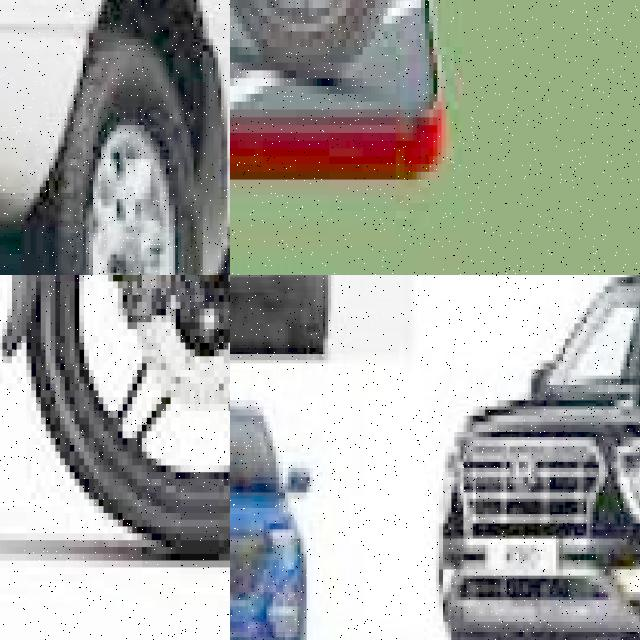bike: (0, 275, 230, 560)
car: (418, 275, 640, 640), (0, 0, 230, 275), (230, 320, 393, 640), (230, 275, 417, 363)
